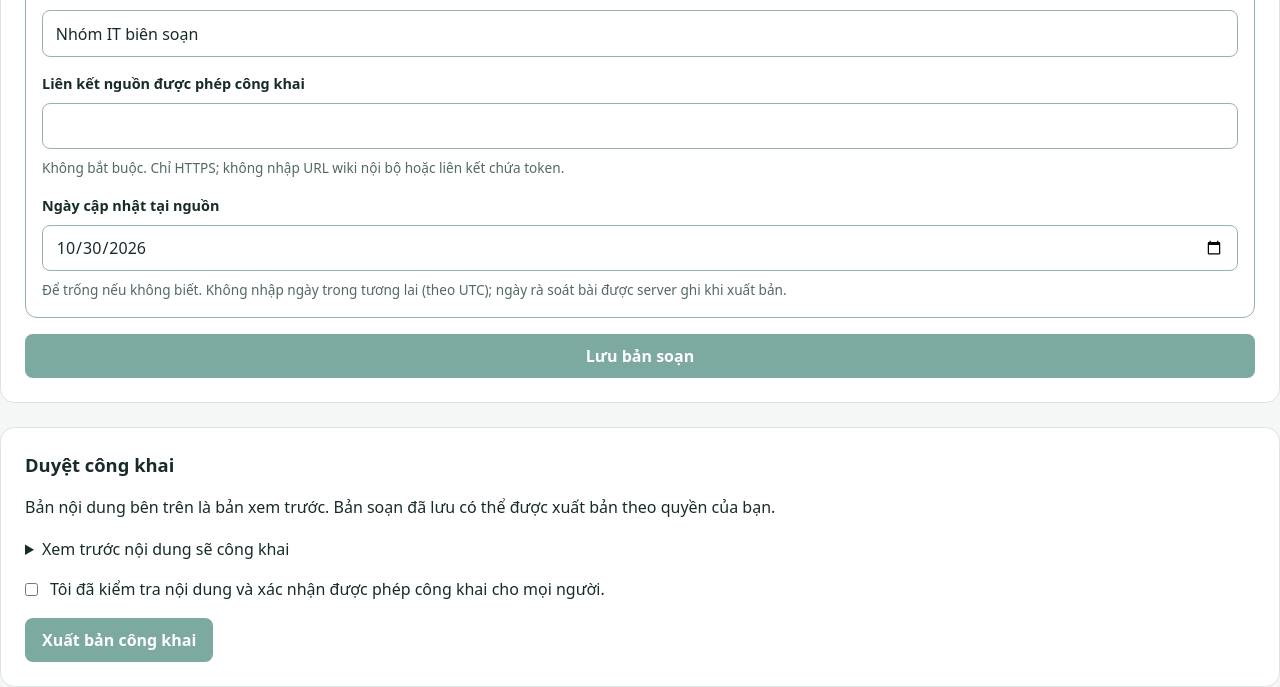
Test: public community portal and controlled publishing › requires explicit review before publish and sends the server version
The image size is (1280, 687).
(page scrolled)
Expected: the button "Xuất bản công khai" is disabled, [25, 618, 213, 662]
Click the checkbox labelled "Tôi đã kiểm tra nội dung".
click(32, 590)  # box [25, 583, 38, 596]
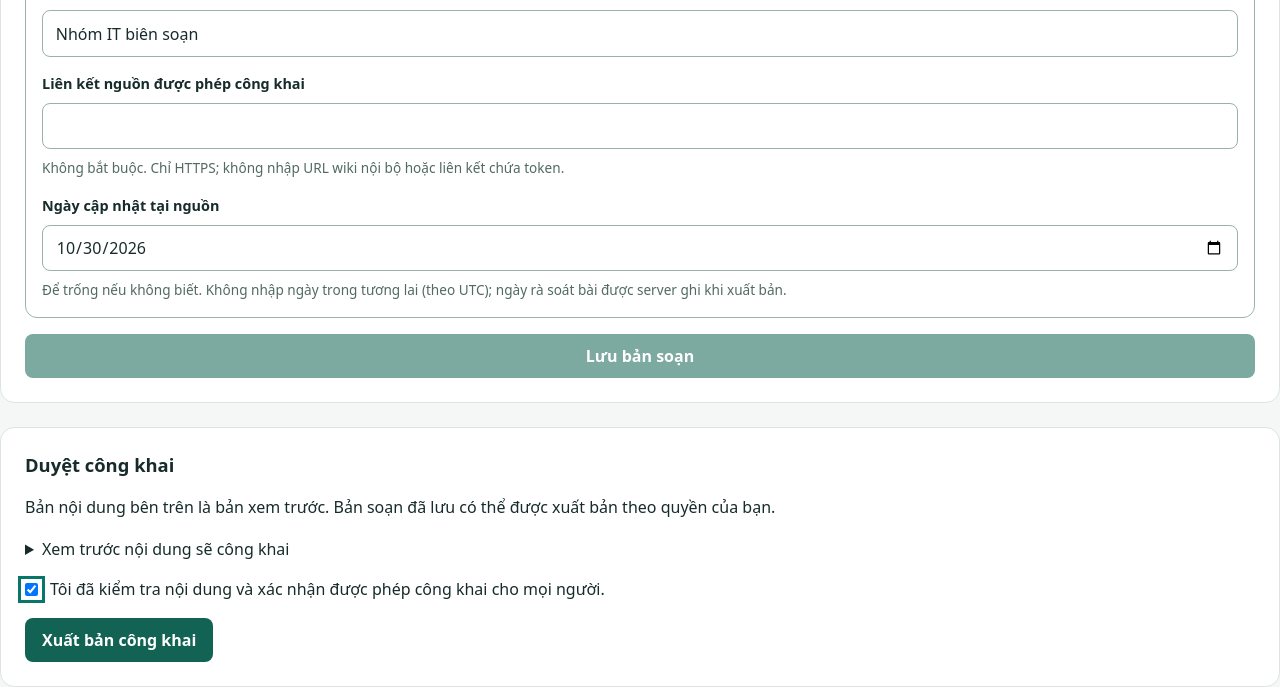
Click the button "Xuất bản công khai".
click(119, 640)  # box [25, 618, 213, 662]
(page scrolled)
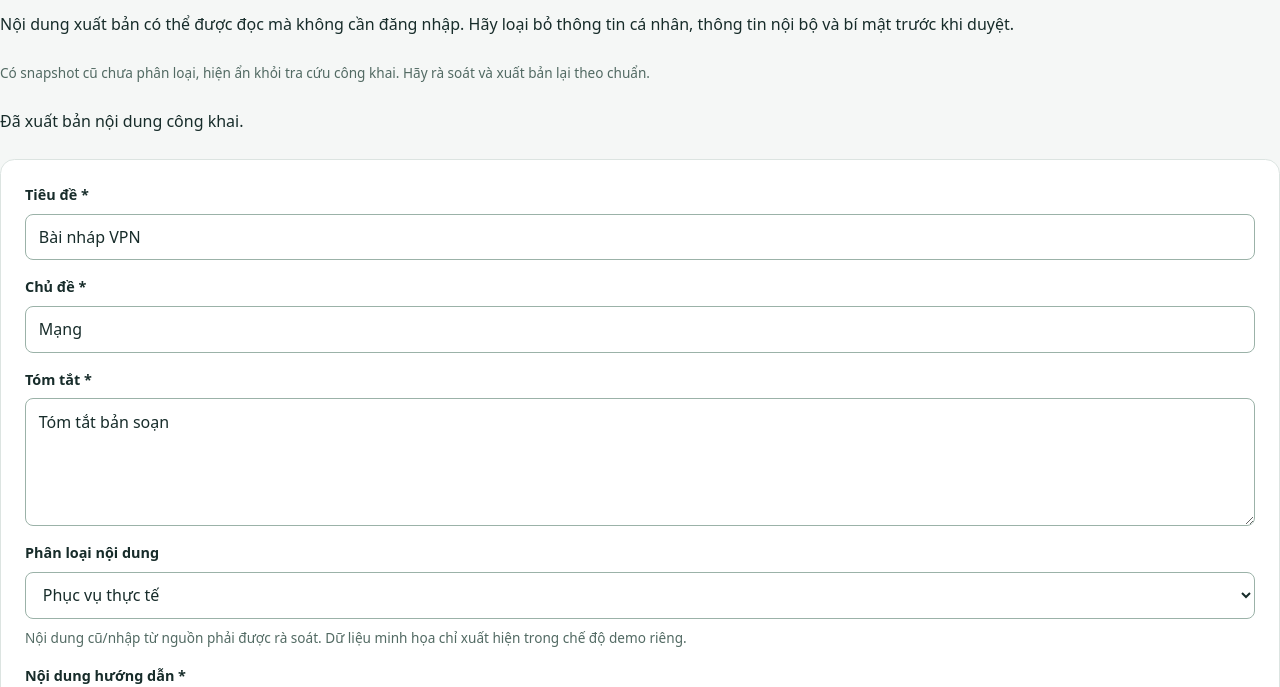
Expected: the text "Đã xuất bản nội dung công khai." is shown, [0, 110, 244, 132]
